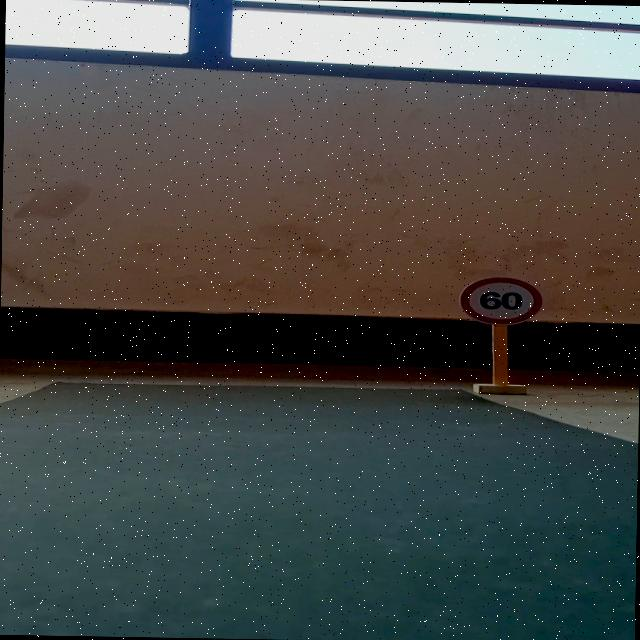Speed60: (458, 275, 540, 324)
